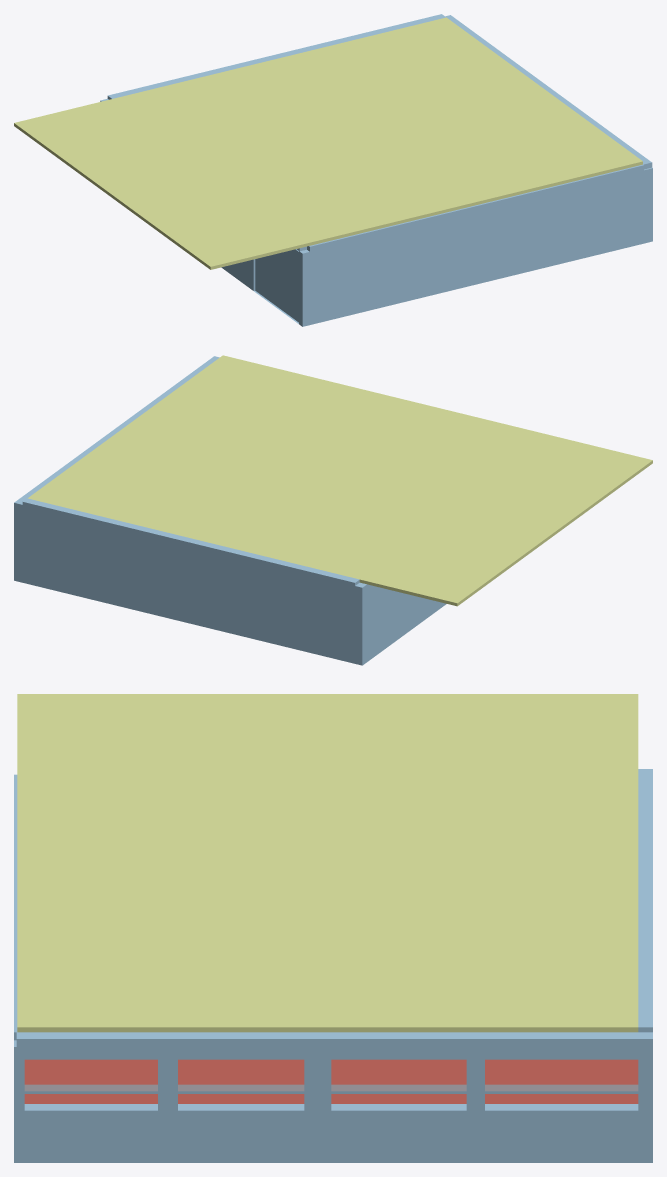
The model's file is museo.glb.
3 renders of one model, top to bottom at view 1: azimuth 30°, elevation 25°; view 2: azimuth 150°, elevation 25°; view 3: azimuth 270°, elevation 25°, orthographic. The views are drawn at different scales.
Parts seen in each view (by area): view 1: Plane; view 2: Plane; view 3: Plane.
Part boxes in pixels (x1,y1,x2,y2): Plane: (14, 14, 652, 326); Plane: (14, 355, 652, 665); Plane: (14, 694, 652, 1162).
Bounding box in the file's own units: 36.71 × 6.47 × 29.15.
